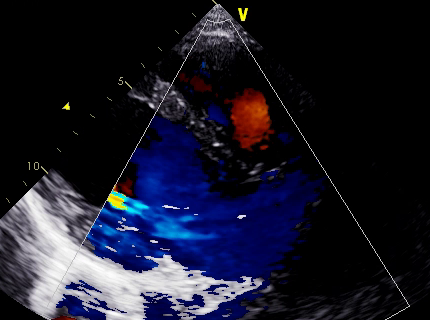MR: (129, 193, 180, 252)
